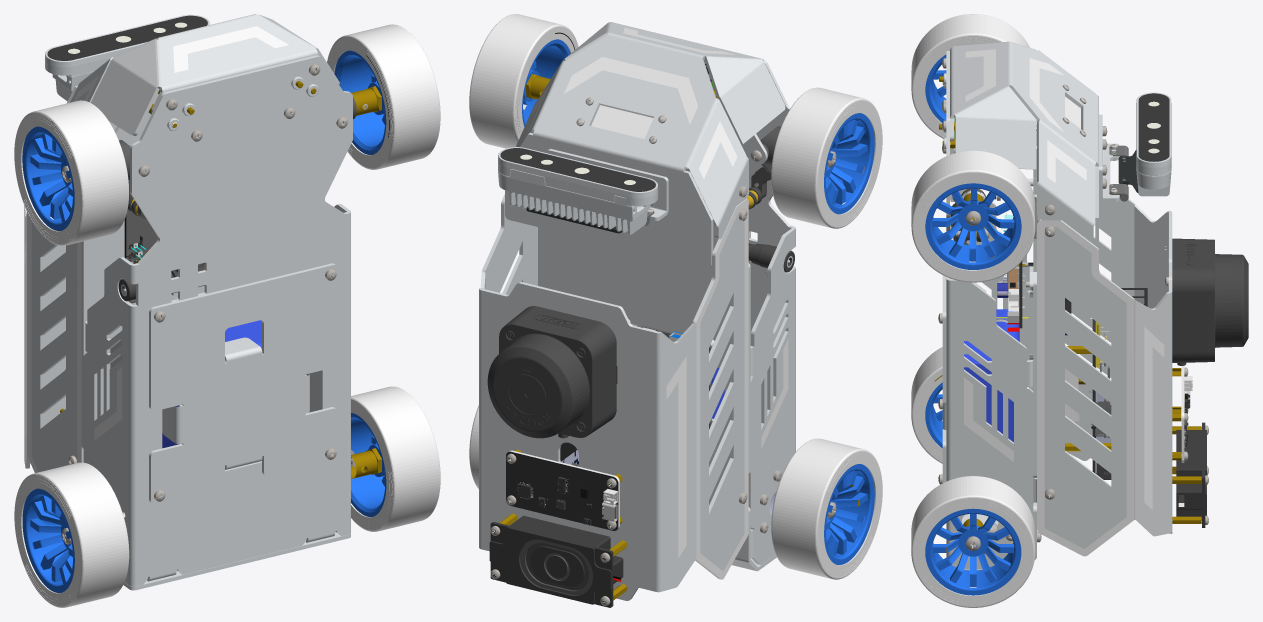
The model's file is rosmaster.dae.
The picture shows the model from 3 angles, left to right: view 1: azimuth 30°, elevation 25°; view 2: azimuth 150°, elevation 25°; view 3: azimuth 270°, elevation 25°; orthographic projection. The views are drawn at different scales.
Visible parts, largest first — view 1: node_a0e97653_44a3_431a_bc6b_f9bc61a77e28_mesh2, node_a0e97653_44a3_431a_bc6b_f9bc61a77e28_mesh5, node_a0e97653_44a3_431a_bc6b_f9bc61a77e28_mesh4, node_a0e97653_44a3_431a_bc6b_f9bc61a77e28_mesh3, node_a0e97653_44a3_431a_bc6b_f9bc61a77e28_mesh28, node_a0e97653_44a3_431a_bc6b_f9bc61a77e28_mesh9, node_a0e97653_44a3_431a_bc6b_f9bc61a77e28_mesh1, node_a0e97653_44a3_431a_bc6b_f9bc61a77e28_mesh33, node_a0e97653_44a3_431a_bc6b_f9bc61a77e28_mesh44; view 2: node_a0e97653_44a3_431a_bc6b_f9bc61a77e28_mesh2, node_a0e97653_44a3_431a_bc6b_f9bc61a77e28_mesh5, node_a0e97653_44a3_431a_bc6b_f9bc61a77e28_mesh0, node_a0e97653_44a3_431a_bc6b_f9bc61a77e28_mesh4, node_a0e97653_44a3_431a_bc6b_f9bc61a77e28_mesh22, node_a0e97653_44a3_431a_bc6b_f9bc61a77e28_mesh3, node_a0e97653_44a3_431a_bc6b_f9bc61a77e28_mesh8, node_a0e97653_44a3_431a_bc6b_f9bc61a77e28_mesh38, node_a0e97653_44a3_431a_bc6b_f9bc61a77e28_mesh28, node_a0e97653_44a3_431a_bc6b_f9bc61a77e28_mesh1, node_a0e97653_44a3_431a_bc6b_f9bc61a77e28_mesh16, node_a0e97653_44a3_431a_bc6b_f9bc61a77e28_mesh9 (+1 smaller); view 3: node_a0e97653_44a3_431a_bc6b_f9bc61a77e28_mesh2, node_a0e97653_44a3_431a_bc6b_f9bc61a77e28_mesh5, node_a0e97653_44a3_431a_bc6b_f9bc61a77e28_mesh4, node_a0e97653_44a3_431a_bc6b_f9bc61a77e28_mesh8, node_a0e97653_44a3_431a_bc6b_f9bc61a77e28_mesh0, node_a0e97653_44a3_431a_bc6b_f9bc61a77e28_mesh22, node_a0e97653_44a3_431a_bc6b_f9bc61a77e28_mesh1, node_a0e97653_44a3_431a_bc6b_f9bc61a77e28_mesh28, node_a0e97653_44a3_431a_bc6b_f9bc61a77e28_mesh3, node_a0e97653_44a3_431a_bc6b_f9bc61a77e28_mesh9, node_a0e97653_44a3_431a_bc6b_f9bc61a77e28_mesh44, node_a0e97653_44a3_431a_bc6b_f9bc61a77e28_mesh10.
Part boxes in pixels (box(x1,y1,x2,y2)): node_a0e97653_44a3_431a_bc6b_f9bc61a77e28_mesh2: box(24, 14, 352, 590); node_a0e97653_44a3_431a_bc6b_f9bc61a77e28_mesh5: box(14, 24, 440, 607); node_a0e97653_44a3_431a_bc6b_f9bc61a77e28_mesh4: box(22, 50, 386, 592); node_a0e97653_44a3_431a_bc6b_f9bc61a77e28_mesh3: box(45, 14, 349, 586); node_a0e97653_44a3_431a_bc6b_f9bc61a77e28_mesh28: box(47, 15, 207, 60); node_a0e97653_44a3_431a_bc6b_f9bc61a77e28_mesh9: box(60, 81, 381, 553); node_a0e97653_44a3_431a_bc6b_f9bc61a77e28_mesh1: box(62, 63, 367, 544); node_a0e97653_44a3_431a_bc6b_f9bc61a77e28_mesh33: box(110, 209, 204, 368); node_a0e97653_44a3_431a_bc6b_f9bc61a77e28_mesh44: box(162, 320, 261, 448); node_a0e97653_44a3_431a_bc6b_f9bc61a77e28_mesh2: box(479, 22, 795, 600); node_a0e97653_44a3_431a_bc6b_f9bc61a77e28_mesh5: box(469, 14, 882, 579); node_a0e97653_44a3_431a_bc6b_f9bc61a77e28_mesh0: box(487, 187, 794, 595); node_a0e97653_44a3_431a_bc6b_f9bc61a77e28_mesh4: box(522, 39, 874, 564); node_a0e97653_44a3_431a_bc6b_f9bc61a77e28_mesh22: box(489, 330, 670, 607); node_a0e97653_44a3_431a_bc6b_f9bc61a77e28_mesh3: box(498, 60, 795, 451); node_a0e97653_44a3_431a_bc6b_f9bc61a77e28_mesh8: box(499, 189, 789, 502); node_a0e97653_44a3_431a_bc6b_f9bc61a77e28_mesh38: box(506, 451, 618, 530); node_a0e97653_44a3_431a_bc6b_f9bc61a77e28_mesh28: box(500, 148, 655, 191); node_a0e97653_44a3_431a_bc6b_f9bc61a77e28_mesh1: box(490, 97, 836, 606); node_a0e97653_44a3_431a_bc6b_f9bc61a77e28_mesh16: box(544, 126, 780, 580); node_a0e97653_44a3_431a_bc6b_f9bc61a77e28_mesh9: box(499, 74, 859, 600); node_a0e97653_44a3_431a_bc6b_f9bc61a77e28_mesh2: box(942, 41, 1172, 570); node_a0e97653_44a3_431a_bc6b_f9bc61a77e28_mesh5: box(911, 14, 1192, 607); node_a0e97653_44a3_431a_bc6b_f9bc61a77e28_mesh4: box(925, 54, 1021, 595); node_a0e97653_44a3_431a_bc6b_f9bc61a77e28_mesh8: box(953, 227, 1242, 474); node_a0e97653_44a3_431a_bc6b_f9bc61a77e28_mesh0: box(950, 203, 1248, 479); node_a0e97653_44a3_431a_bc6b_f9bc61a77e28_mesh22: box(1019, 261, 1206, 527); node_a0e97653_44a3_431a_bc6b_f9bc61a77e28_mesh1: box(938, 58, 1208, 553); node_a0e97653_44a3_431a_bc6b_f9bc61a77e28_mesh28: box(1138, 93, 1169, 161); node_a0e97653_44a3_431a_bc6b_f9bc61a77e28_mesh3: box(946, 51, 1171, 280); node_a0e97653_44a3_431a_bc6b_f9bc61a77e28_mesh9: box(934, 76, 1201, 533); node_a0e97653_44a3_431a_bc6b_f9bc61a77e28_mesh44: box(964, 309, 1019, 442); node_a0e97653_44a3_431a_bc6b_f9bc61a77e28_mesh10: box(1028, 150, 1138, 266).
Bounding box in the file's own units: 202 × 182 × 278.
